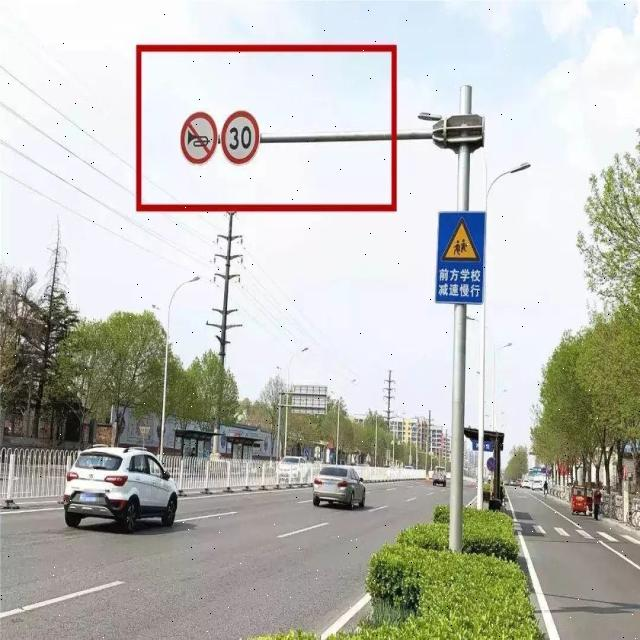speed limit 30: (221, 108, 259, 164)
